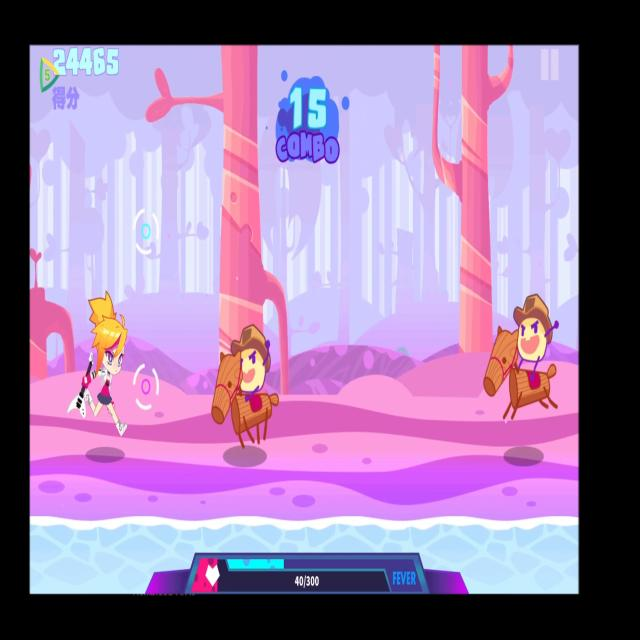qiu: (482, 292, 562, 424), (209, 316, 281, 462)
